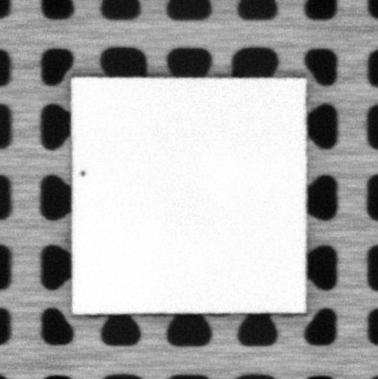DIE_INK: (79, 168, 87, 178)
